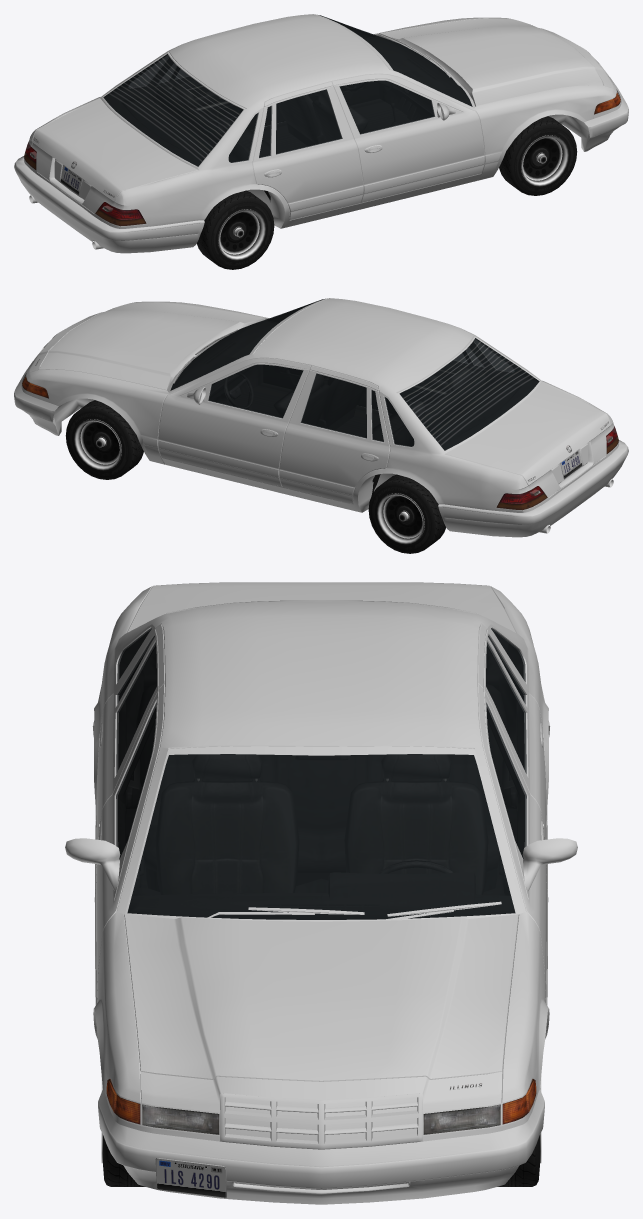
Rendered from 50UNMRKD90.fbx.
The picture shows the model from 3 angles, top to bottom: view 1: azimuth 30°, elevation 25°; view 2: azimuth 150°, elevation 25°; view 3: azimuth 270°, elevation 25°; orthographic projection. The views are drawn at different scales.
Parts seen in each view (by area): view 1: Illinois90_Body, Illinois90_Interior, Illinois90_Hood, Illinois90_Trunkdoor, Illinois90_Bottom, Illinois90_Rear_Glass, Illinois90_Body_Glass, Illinois90_WheelStock_RR, Illinois90_WheelStock_FR, Illinois90_Glass_Passenger, Illinois90_Bumper_rear, Illinois90_Windshield (+7 smaller); view 2: Illinois90_Body, Illinois90_Interior, Illinois90_Hood, Illinois90_Trunkdoor, Illinois90_Bottom, Illinois90_Rear_Glass, Illinois90_Body_Glass, Illinois90_WheelStock_RL, Illinois90_WheelStock_FL, Illinois90_glass_Driver, Illinois90_Bumper_rear, Illinois90_Windshield (+8 smaller); view 3: Illinois90_Body, Illinois90_Interior, Illinois90_Hood, Illinois90_Windshield, Illinois90_Bottom, Illinois90_Bumper_front, Illinois90_Bumper_front_inner, Illinois90_Trunkdoor, Illinois90_Body_Glass, Illinois90_Headlights_Glass, Illinois90_Headlights, Illinois90_glass_Driver (+5 smaller).
Boxes of the visible parts, x1,y1,x2,y2 form: Illinois90_Body: (24, 14, 621, 228); Illinois90_Interior: (104, 15, 471, 201); Illinois90_Hood: (377, 18, 603, 106); Illinois90_Trunkdoor: (32, 98, 197, 213); Illinois90_Bottom: (24, 14, 620, 249); Illinois90_Rear_Glass: (103, 54, 243, 166); Illinois90_Body_Glass: (129, 55, 342, 162); Illinois90_WheelStock_RR: (197, 190, 274, 269); Illinois90_WheelStock_FR: (499, 116, 577, 195); Illinois90_Glass_Passenger: (339, 80, 434, 134); Illinois90_Bumper_rear: (15, 156, 204, 253); Illinois90_Windshield: (319, 15, 472, 106); Illinois90_Body: (21, 298, 618, 512); Illinois90_Interior: (171, 299, 538, 494); Illinois90_Hood: (39, 302, 265, 390); Illinois90_Trunkdoor: (445, 382, 610, 497); Illinois90_Bottom: (22, 298, 618, 533); Illinois90_Rear_Glass: (399, 338, 539, 450); Illinois90_Body_Glass: (300, 339, 513, 446); Illinois90_WheelStock_RL: (368, 474, 445, 553); Illinois90_WheelStock_FL: (65, 400, 143, 479); Illinois90_glass_Driver: (208, 364, 303, 418); Illinois90_Bumper_rear: (438, 440, 627, 537); Illinois90_Windshield: (170, 299, 323, 390); Illinois90_Body: (94, 586, 548, 1141); Illinois90_Interior: (118, 632, 524, 919); Illinois90_Hood: (124, 914, 518, 1081); Illinois90_Windshield: (127, 754, 515, 919); Illinois90_Bottom: (65, 600, 577, 1149); Illinois90_Bumper_front: (98, 1089, 544, 1204); Illinois90_Bumper_front_inner: (98, 1102, 544, 1189); Illinois90_Trunkdoor: (127, 582, 515, 632); Illinois90_Body_Glass: (116, 628, 526, 773); Illinois90_Headlights_Glass: (106, 1079, 536, 1134); Illinois90_Headlights: (142, 1105, 500, 1134); Illinois90_glass_Driver: (486, 702, 526, 859).
Bounding box in the file's own units: 5.17 × 1.43 × 2.09.
